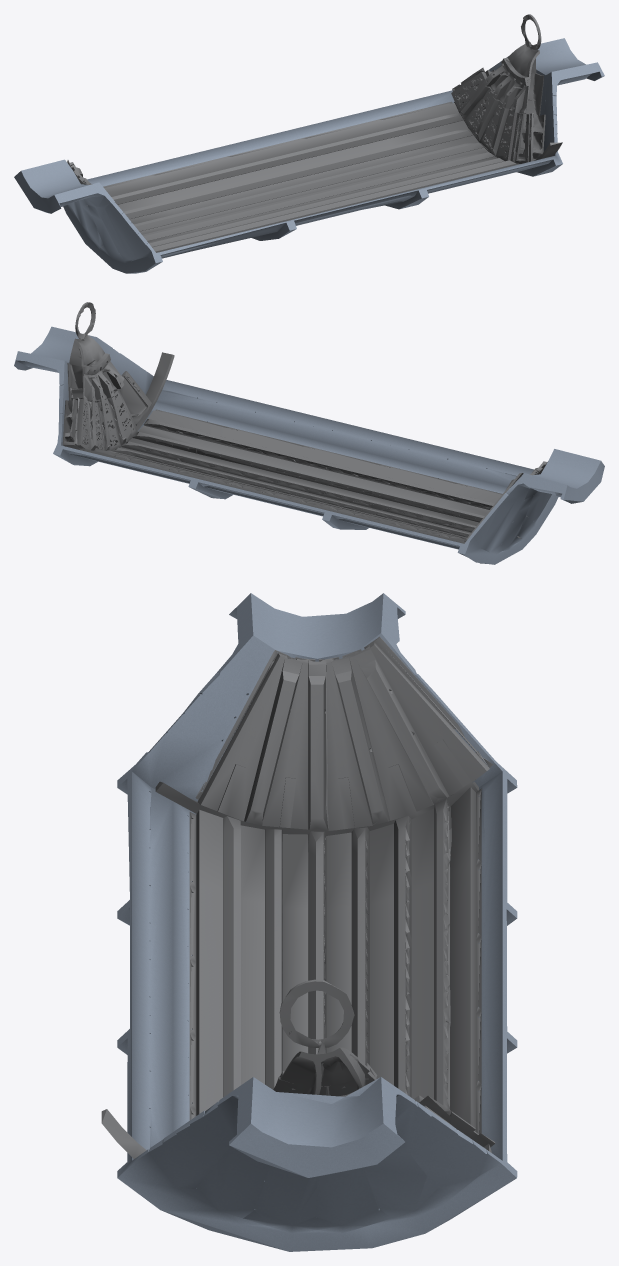
File: mill-ball-ngds.glb
3 views of the same model, one above another, from view 1: azimuth 30°, elevation 25°; view 2: azimuth 150°, elevation 25°; view 3: azimuth 270°, elevation 25° (orthographic). The views are drawn at different scales.
Visible parts, largest first — view 1: metal:shell-liners, millBody:body, metal:discharge; view 2: millBody:body, metal:shell-liners, metal:discharge; view 3: millBody:body, metal:shell-liners, metal:feed-liners, metal:discharge.
Boxes of the visible parts, x1,y1,x2,y2 form: metal:shell-liners: (103, 101, 520, 252); millBody:body: (14, 38, 604, 273); metal:discharge: (451, 14, 562, 163); millBody:body: (14, 326, 604, 564); metal:shell-liners: (84, 409, 502, 543); metal:discharge: (62, 302, 174, 450); millBody:body: (117, 593, 517, 1251); metal:shell-liners: (189, 787, 481, 1134); metal:feed-liners: (155, 636, 493, 835); metal:discharge: (101, 979, 495, 1158).
Size of the model in its own units: 14.82 by 3.76 by 4.88.
Materials: 4 (4 with a texture image).
